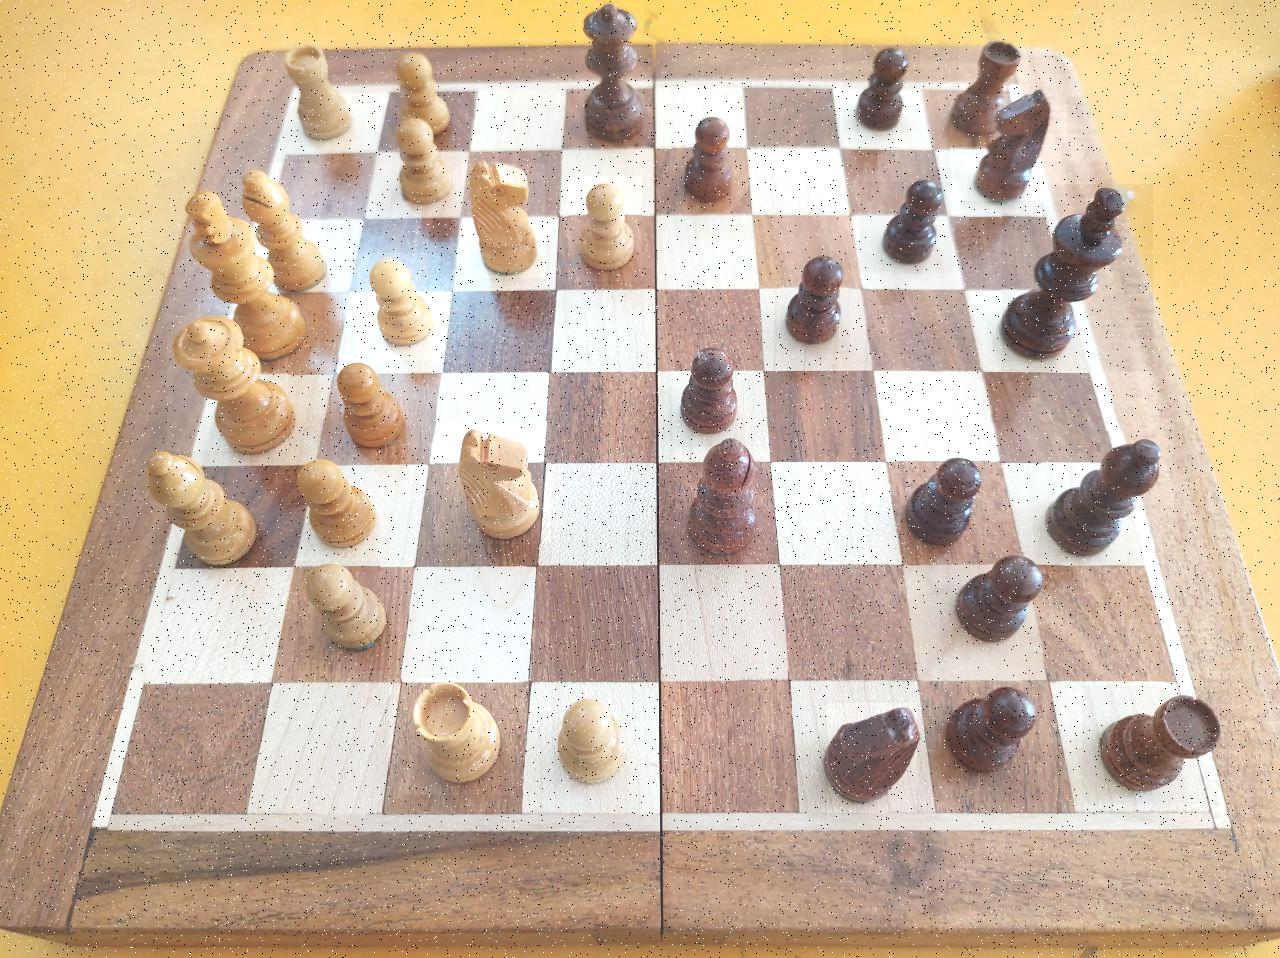black-camel: (1041, 432, 1173, 551), (675, 447, 770, 563)
black-elephant: (1082, 687, 1222, 805), (959, 33, 1028, 137)
black-horse: (950, 95, 1067, 202), (826, 703, 917, 813)
black-king: (1002, 185, 1153, 372)
black-pawn: (945, 687, 1045, 803), (945, 552, 1048, 653), (895, 452, 987, 551), (860, 182, 952, 273), (672, 340, 750, 435), (780, 252, 850, 355), (842, 38, 920, 132), (672, 115, 743, 202)
black-queen: (574, 3, 643, 150)
white-camel: (137, 442, 263, 568), (245, 163, 322, 290)
white-elephant: (388, 678, 513, 795), (272, 47, 365, 143)
white-horse: (433, 422, 550, 545), (462, 163, 545, 279)
white-king: (177, 185, 278, 365)
white-pawn: (538, 688, 645, 785), (297, 562, 380, 671), (365, 119, 460, 213), (357, 253, 440, 360), (323, 357, 415, 453), (292, 460, 376, 558), (568, 176, 642, 282), (391, 48, 457, 137)
white-queen: (167, 315, 288, 452)
